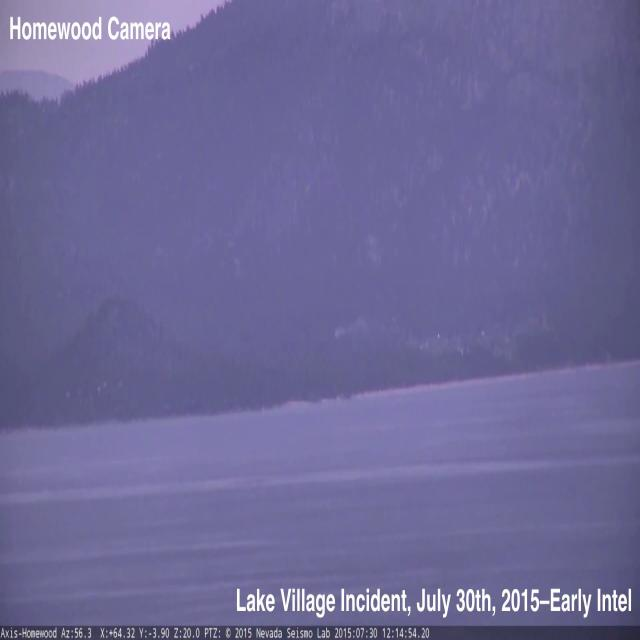smoke: (332, 315, 372, 340)
